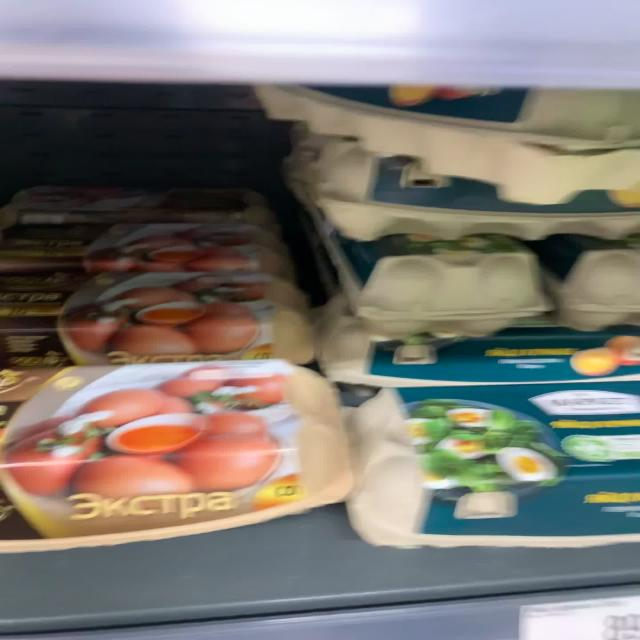egg box: (2, 280, 300, 365), (7, 216, 294, 268)
